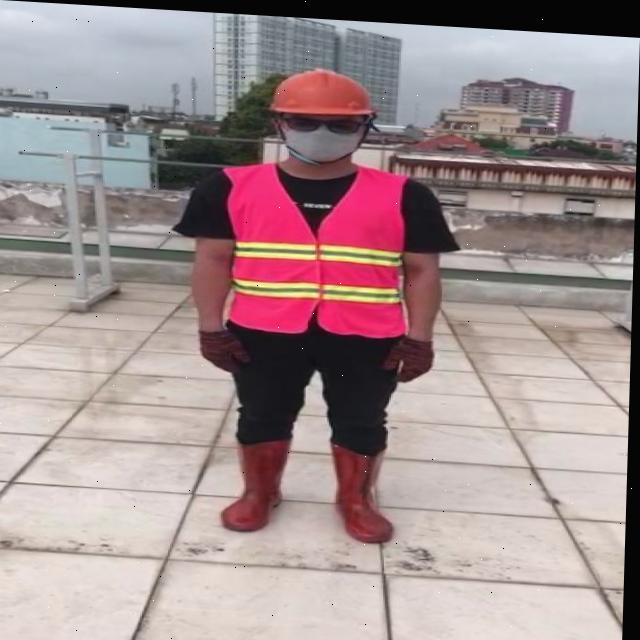Gloves: (382, 329, 435, 379), (200, 323, 254, 370)
Helmet: (267, 61, 378, 115)
Safety-Boot: (330, 434, 399, 540), (223, 429, 294, 530)
Safety-Vest: (218, 154, 413, 336)
